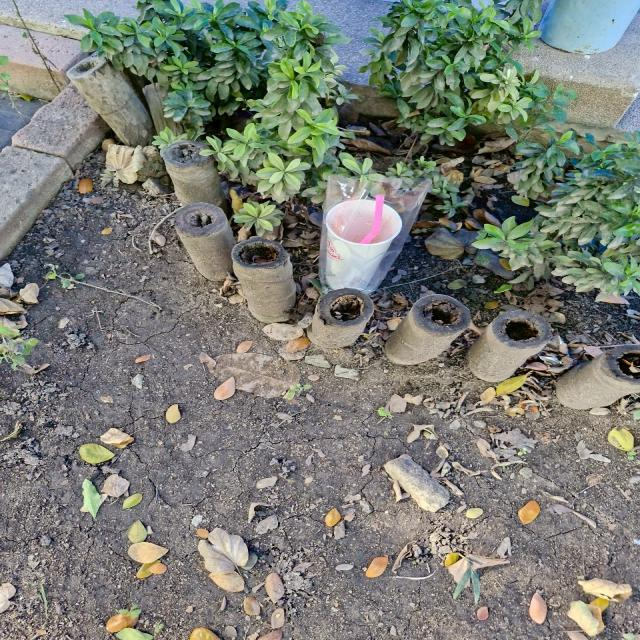paper cup: (320, 192, 399, 288)
